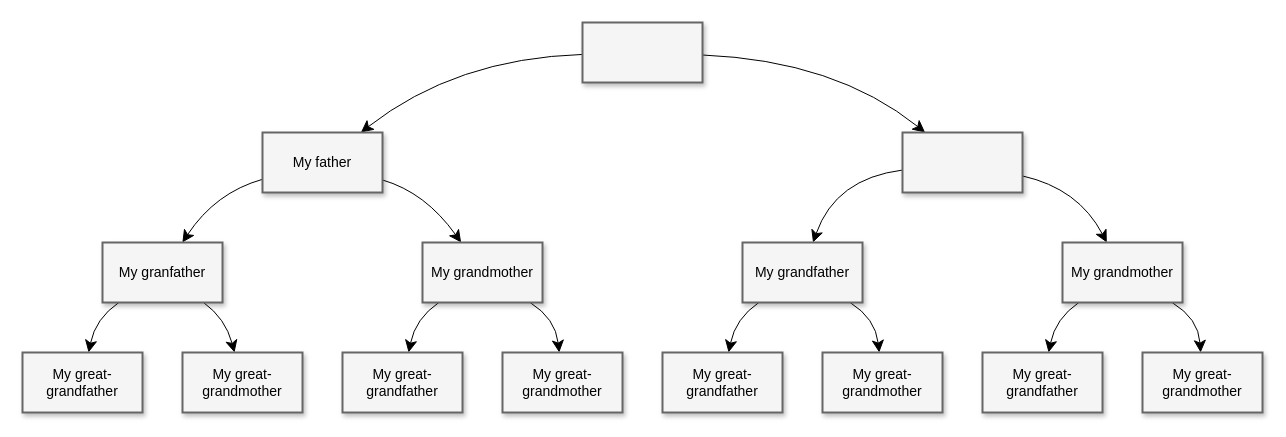
Image size: 1286x437. Some labels were removed from this diagram. Each missing label, with the centre of its shape:
"Me" belongs at point (643, 53).
"My mother" belongs at point (963, 163).
